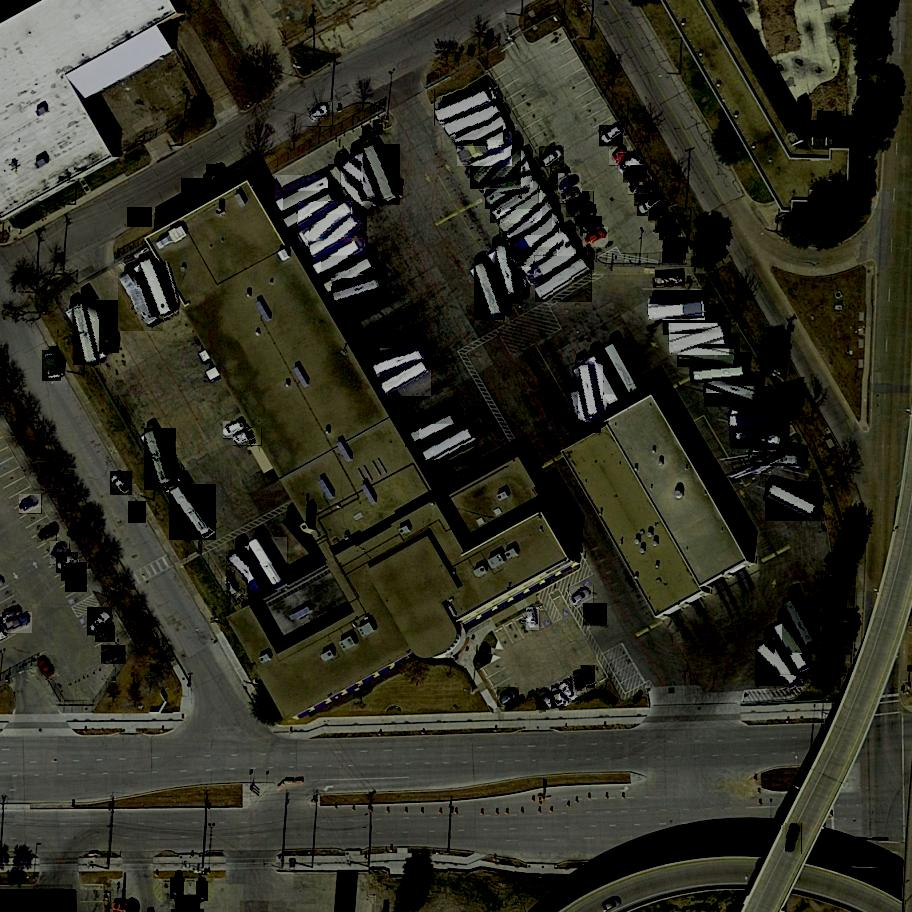large-vehicle: (508, 213, 559, 268), (471, 134, 521, 190), (499, 185, 553, 236), (518, 228, 575, 276), (311, 214, 364, 265), (118, 272, 163, 332), (536, 256, 593, 303), (169, 484, 216, 541), (419, 424, 479, 467), (503, 203, 559, 249), (298, 202, 354, 247), (443, 99, 504, 140), (75, 300, 121, 354), (328, 164, 375, 216), (341, 158, 393, 205), (485, 165, 539, 210), (490, 178, 543, 223), (275, 176, 335, 215), (283, 192, 341, 232), (139, 258, 176, 320), (364, 144, 401, 206), (765, 482, 823, 521), (435, 90, 496, 127), (227, 549, 272, 598), (756, 639, 802, 686), (249, 537, 289, 591), (321, 256, 375, 296), (782, 599, 821, 654), (774, 621, 813, 675), (669, 323, 732, 356), (313, 239, 366, 278), (406, 411, 463, 447), (523, 248, 586, 280), (457, 131, 513, 167), (144, 428, 176, 490), (604, 343, 641, 396), (704, 375, 763, 408), (584, 355, 621, 407), (380, 360, 432, 397), (474, 263, 505, 321), (677, 341, 740, 369), (451, 119, 510, 148), (371, 348, 428, 377), (578, 359, 604, 422), (73, 305, 100, 365), (331, 279, 386, 308), (475, 162, 534, 189), (570, 390, 604, 434), (663, 313, 725, 336), (497, 246, 520, 305), (690, 363, 752, 384), (730, 427, 789, 449), (648, 299, 707, 320), (750, 452, 803, 466), (729, 414, 785, 427)
small-vehicle: (567, 191, 595, 218), (87, 607, 113, 636), (637, 193, 666, 217), (307, 103, 334, 128), (3, 612, 33, 634), (618, 153, 643, 179), (584, 603, 609, 628), (628, 172, 653, 197), (634, 182, 660, 206), (539, 146, 565, 169), (42, 351, 61, 382), (233, 428, 262, 448), (111, 471, 134, 496), (599, 125, 624, 148), (36, 655, 58, 681), (785, 823, 803, 854), (536, 688, 559, 712), (570, 586, 595, 607), (583, 228, 609, 248), (61, 563, 88, 582), (101, 646, 128, 665), (559, 681, 581, 704), (50, 542, 72, 565), (56, 552, 79, 574), (129, 207, 153, 228), (558, 174, 583, 194), (576, 204, 598, 226), (580, 216, 603, 237), (655, 213, 678, 234), (181, 179, 205, 199), (20, 495, 44, 515), (648, 201, 670, 222), (550, 167, 571, 189), (623, 165, 648, 183), (498, 687, 520, 707), (129, 501, 148, 523), (609, 147, 631, 166), (223, 422, 247, 439), (66, 575, 88, 593), (560, 188, 584, 204), (206, 164, 226, 183), (38, 525, 59, 543), (659, 224, 682, 240), (581, 666, 597, 688), (551, 685, 566, 708), (571, 671, 586, 694), (663, 240, 689, 253), (526, 607, 540, 631), (95, 627, 115, 642), (171, 878, 184, 900), (196, 881, 208, 902), (662, 252, 683, 263)
